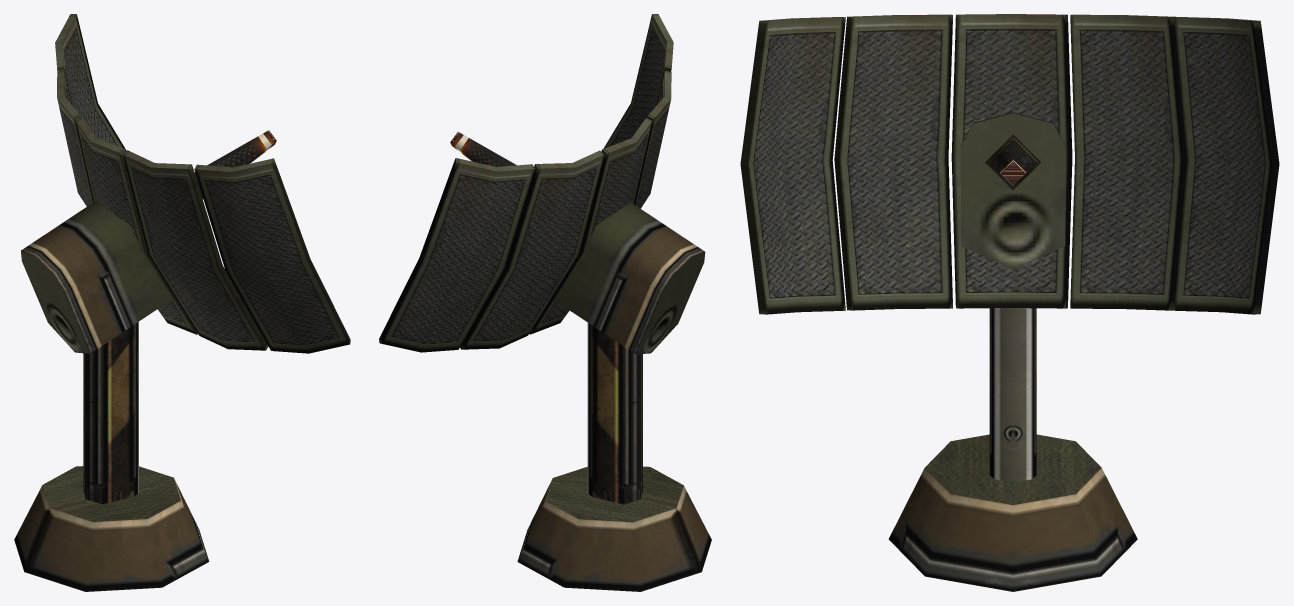
The model's file is radar.obj.
3 views of the same model, side by side, from view 1: azimuth 30°, elevation 25°; view 2: azimuth 150°, elevation 25°; view 3: azimuth 270°, elevation 25° (orthographic). The views are drawn at different scales.
Visible parts, largest first — view 1: pCylinder30 group31 polySurface67, group31 pCylinder28, pCylinder30 group31, group31 pCylinder29, pCylinder30 group31 pCube75; view 2: pCylinder30 group31 polySurface67, group31 pCylinder28, pCylinder30 group31, group31 pCylinder29, pCylinder30 group31 pCube75; view 3: pCylinder30 group31 polySurface67, group31 pCylinder28, pCylinder30 group31, group31 pCylinder29, pCylinder30 group31 pCube75.
Part boxes in pixels (x1,y1,x2,y2): pCylinder30 group31 polySurface67: [55, 14, 350, 353]; group31 pCylinder28: [14, 466, 209, 591]; pCylinder30 group31: [21, 200, 171, 353]; group31 pCylinder29: [83, 321, 138, 504]; pCylinder30 group31 pCube75: [194, 130, 276, 199]; pCylinder30 group31 polySurface67: [379, 14, 673, 352]; group31 pCylinder28: [517, 466, 711, 591]; pCylinder30 group31: [554, 202, 705, 354]; group31 pCylinder29: [587, 323, 642, 504]; pCylinder30 group31 pCube75: [450, 132, 516, 166]; pCylinder30 group31 polySurface67: [740, 14, 1279, 314]; group31 pCylinder28: [888, 434, 1137, 591]; pCylinder30 group31: [960, 112, 1065, 268]; group31 pCylinder29: [989, 308, 1036, 481]; pCylinder30 group31 pCube75: [985, 134, 1040, 190].
Bounding box in the file's own units: 4.93 × 8.45 × 7.43.
3 materials, 3 textured.
